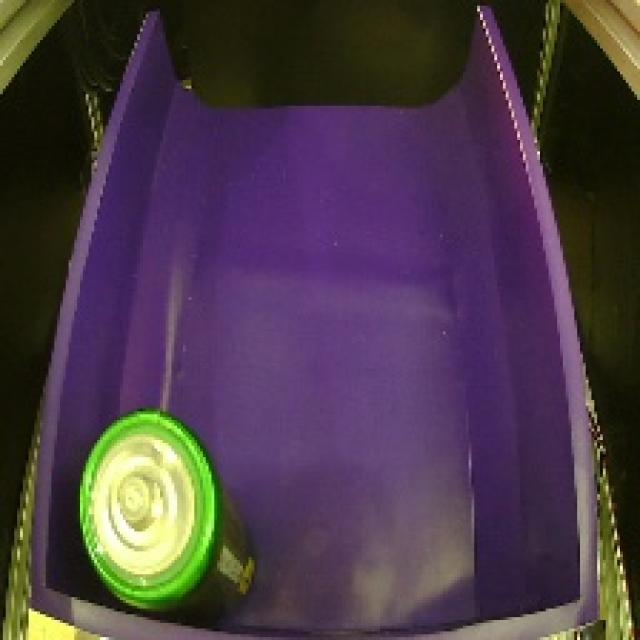battery: (62, 402, 264, 636)
